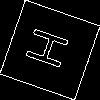H: (24, 25, 79, 74)
